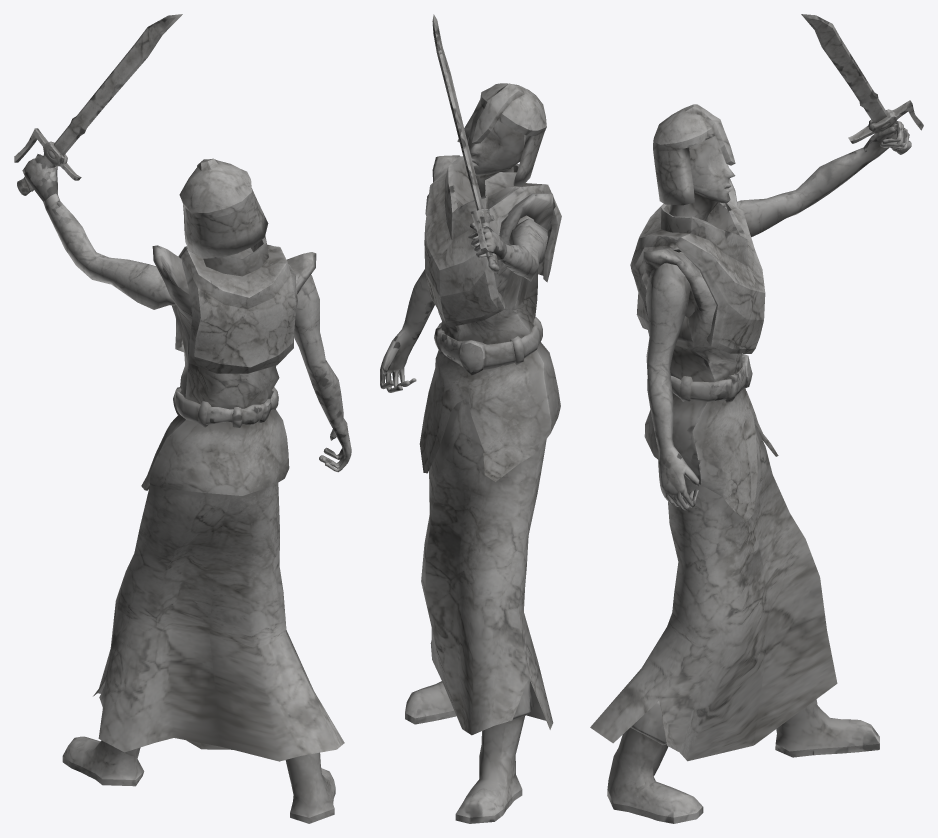
Rendered from statue_hero_fighter.fbx.
The picture shows the model from 3 angles, left to right: view 1: azimuth 30°, elevation 25°; view 2: azimuth 150°, elevation 25°; view 3: azimuth 270°, elevation 25°; orthographic projection. The views are drawn at different scales.
Visible parts, largest first — view 1: statue_hero_fighter; view 2: statue_hero_fighter; view 3: statue_hero_fighter.
Part boxes in pixels (box(x1,y1,x2,y2)): statue_hero_fighter: box(14, 14, 351, 823); statue_hero_fighter: box(380, 14, 561, 823); statue_hero_fighter: box(590, 14, 923, 823).
Bounding box in the file's own units: 71.37 × 230 × 90.71.
